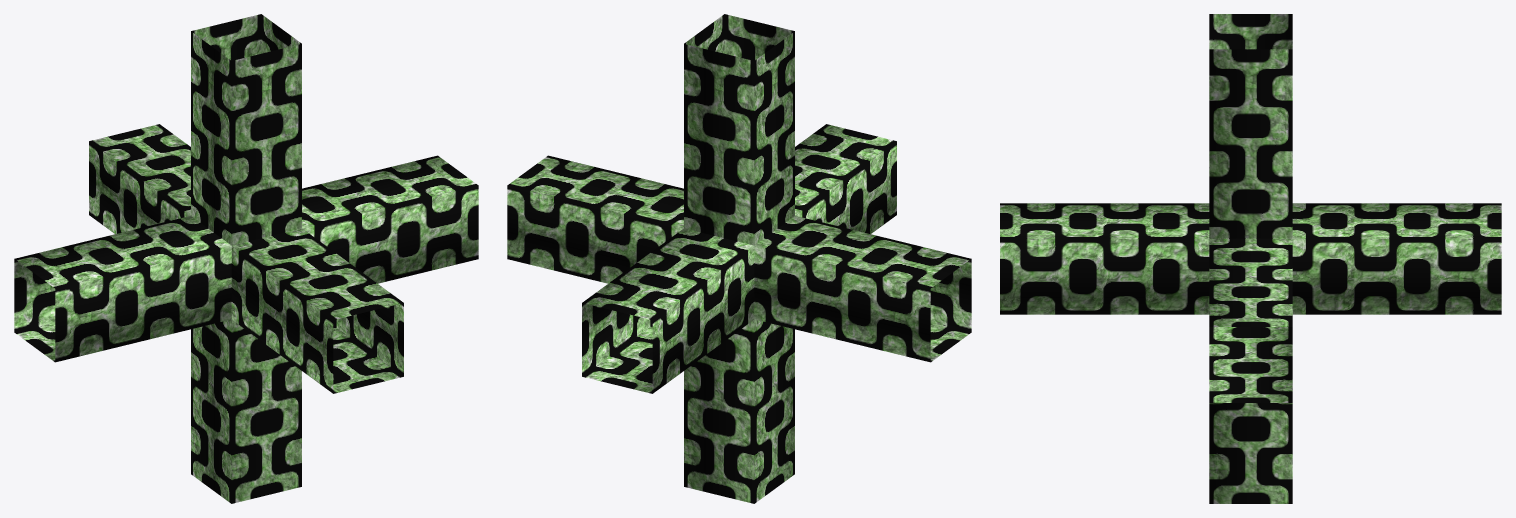
Rendered from Tetrahemihexacron2.gltf.
3 renders of one model, left to right at view 1: azimuth 30°, elevation 25°; view 2: azimuth 150°, elevation 25°; view 3: azimuth 270°, elevation 25°, orthographic. The views are drawn at different scales.
Visible parts, largest first — view 1: Tetrahemihexacron; view 2: Tetrahemihexacron; view 3: Tetrahemihexacron.
Part boxes in pixels (x1,y1,x2,y2): Tetrahemihexacron: [14, 14, 478, 503]; Tetrahemihexacron: [507, 14, 971, 503]; Tetrahemihexacron: [1000, 14, 1501, 503].
Bounding box in the file's own units: 6 × 6 × 6.
1 material, 1 textured.
